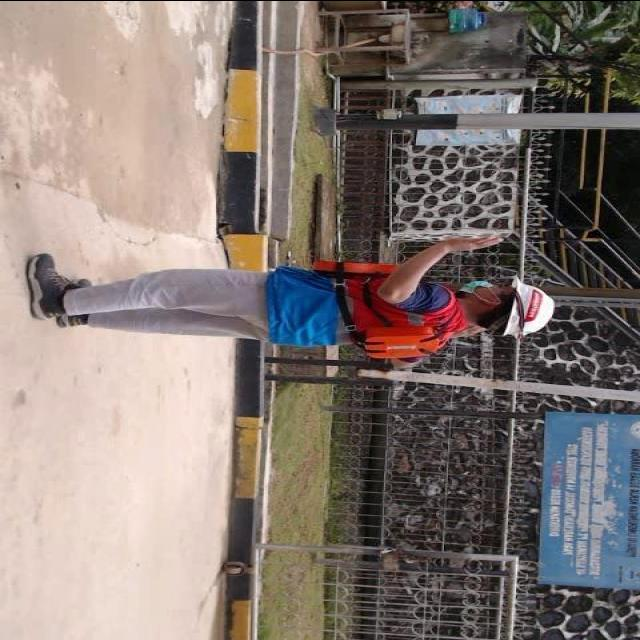helmet: (497, 270, 563, 338)
jacket: (320, 255, 468, 362)
